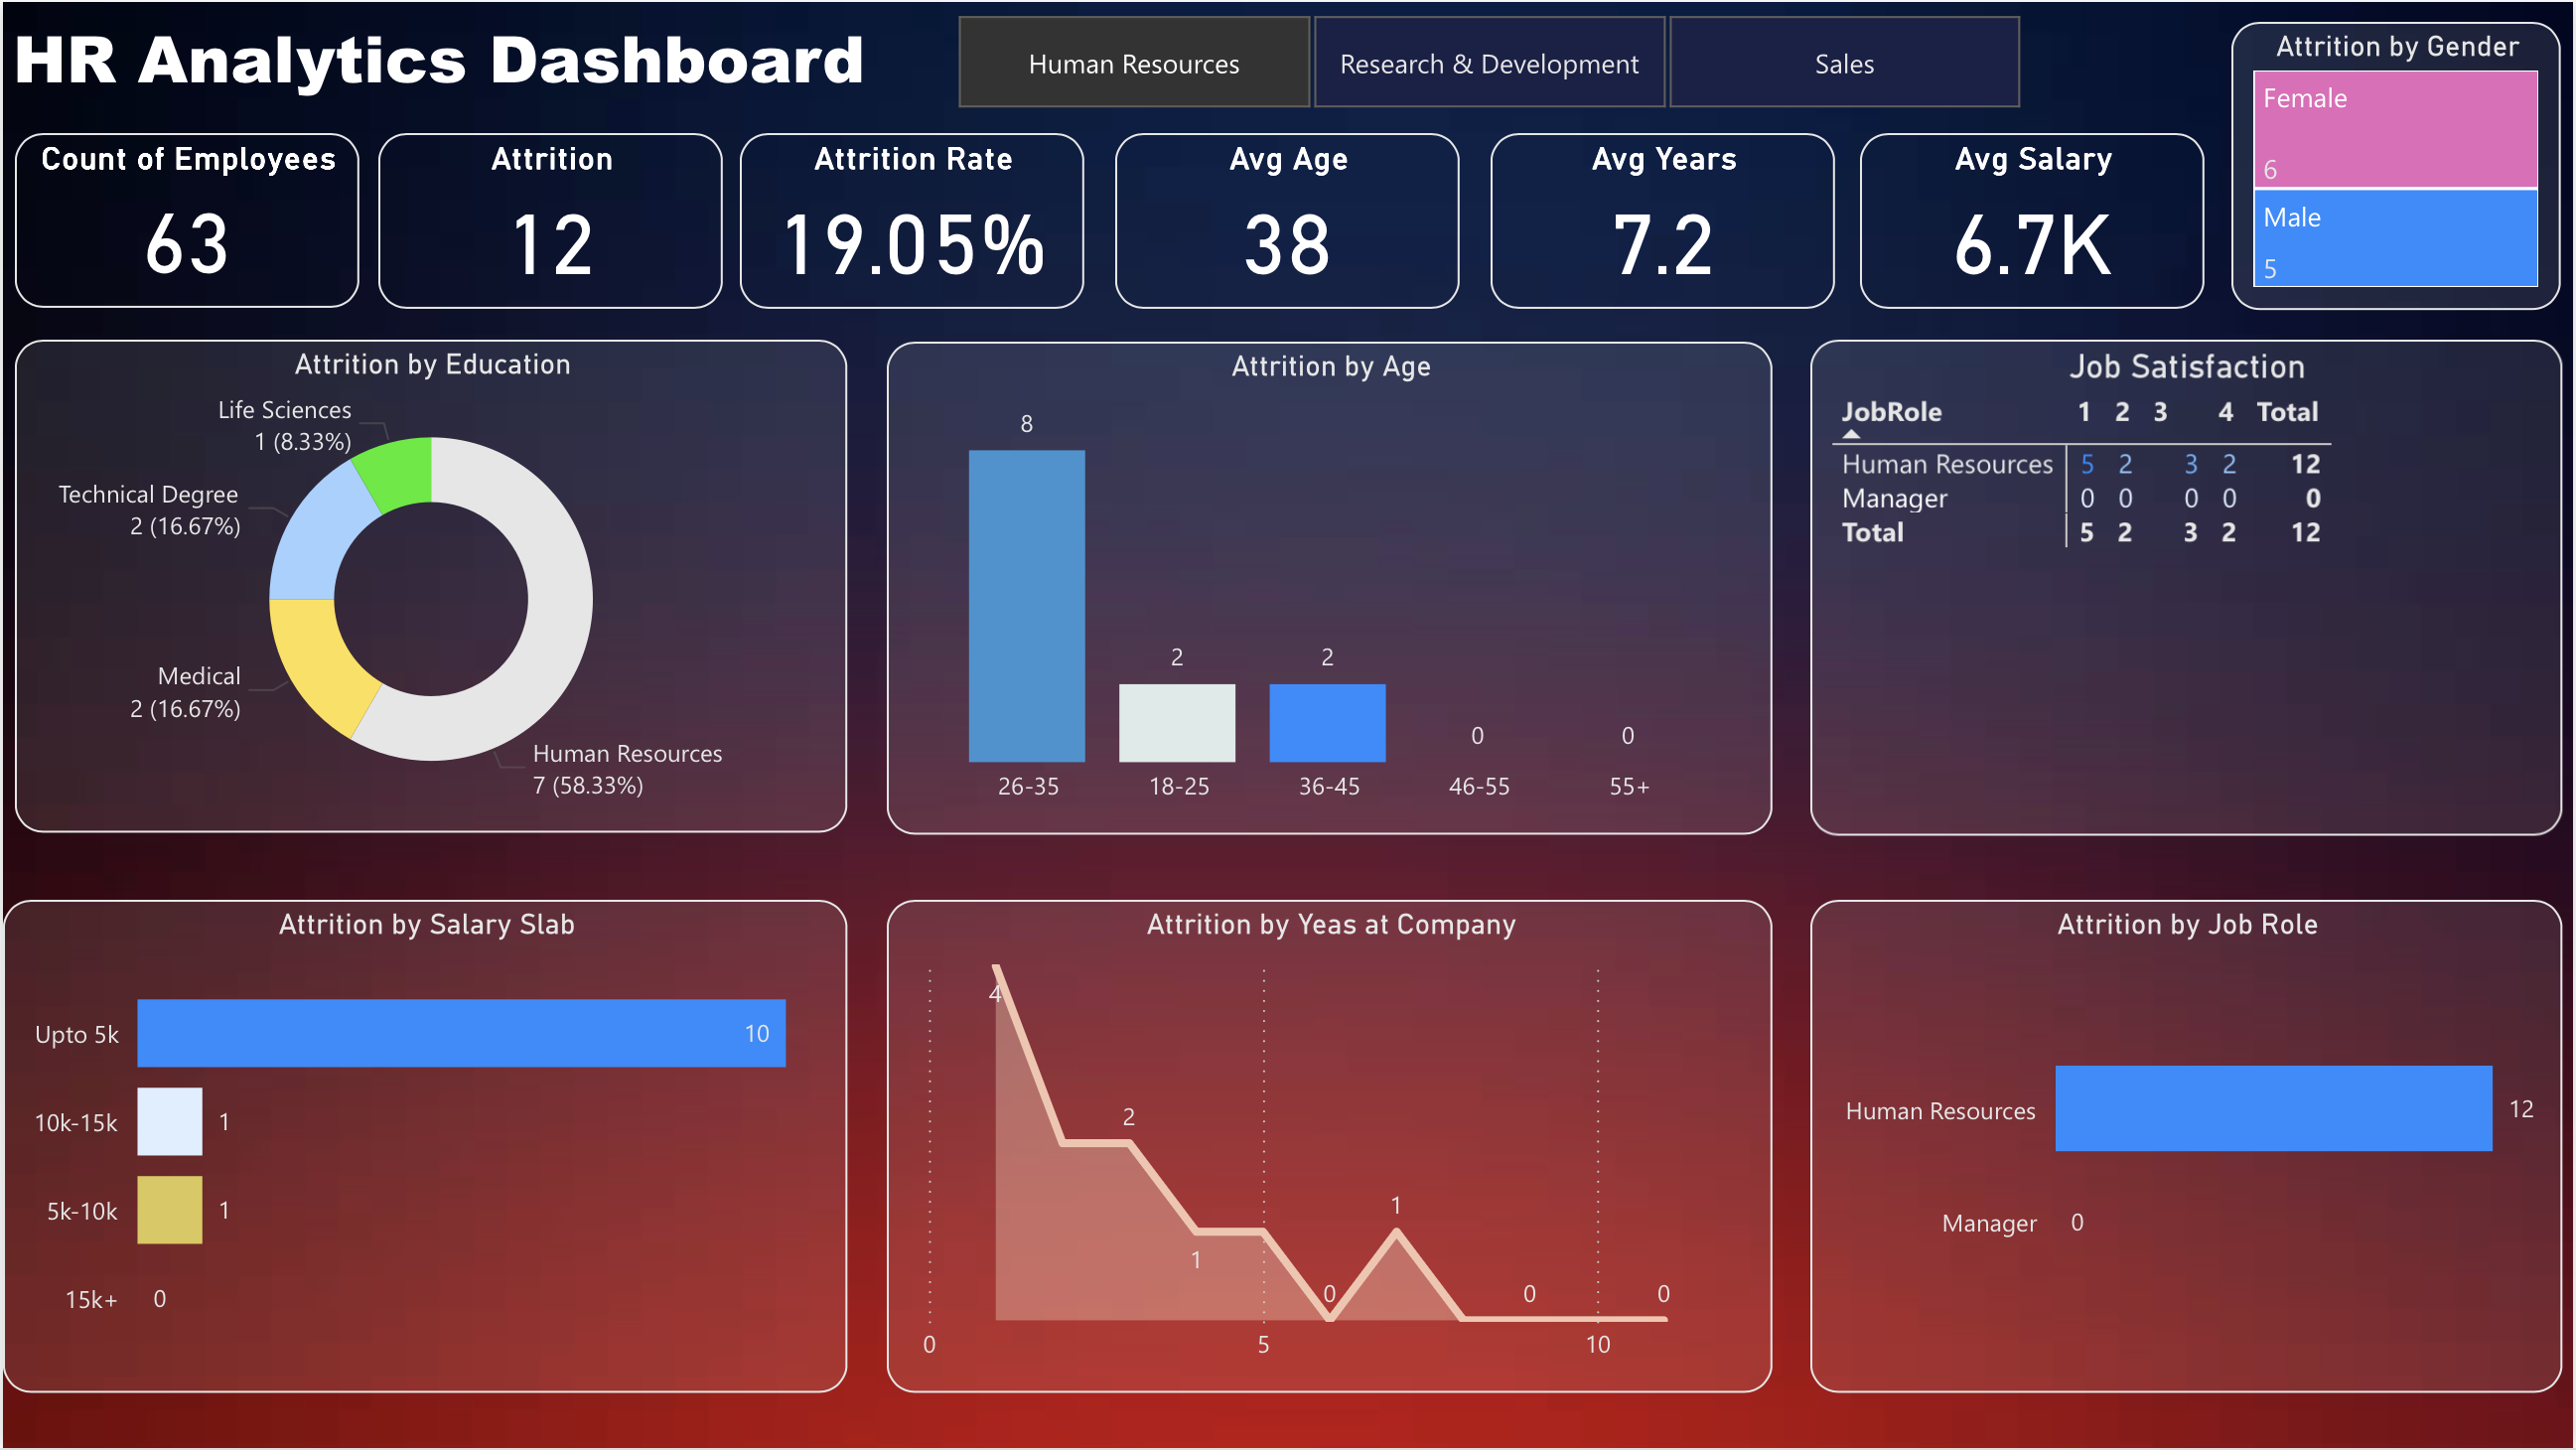

The dashboard page shown, as its layout file describes it:
{"tool":"powerbi","page":{"name":"Page 1","canvas":[1280,720],"ordinal":0},"visuals":[{"type":"card","title":"Count of Employees","fields":{"Values":["CountNonNull(HR_Analytics.EmpID)"]},"box":[6.1,65.6,171.4,87],"z":0},{"type":"card","title":"Attrition","fields":{"Values":["Sum(HR_Analytics.AttritionCount)"]},"box":[187.2,65.6,171.4,87.5],"z":1000},{"type":"card","title":"Attrition Rate","fields":{"Values":["HR_Analytics.Attrition Rate"]},"box":[367.1,65.6,171.4,87.5],"z":2000},{"type":"card","title":"Avg Age","fields":{"Values":["Avg(HR_Analytics.Age)"]},"box":[554.3,65.6,171.4,87.5],"z":3000},{"type":"card","title":"Avg Salary","fields":{"Values":["Avg(HR_Analytics.MonthlyIncome)"]},"box":[925,65.6,171.4,87.5],"z":4000},{"type":"card","title":"Avg Years","fields":{"Values":["Avg(HR_Analytics.YearsAtCompany)"]},"box":[740.3,65.6,171.4,87.5],"z":5000},{"type":"donutChart","title":"Attrition by Education","fields":{"Category":["HR_Analytics.EducationField"],"Y":["Sum(HR_Analytics.AttritionCount)"]},"box":[6.1,167.8,414.5,245.6],"z":6000},{"type":"columnChart","title":"Attrition by Age","fields":{"Category":["HR_Analytics.AgeGroup"],"Y":["Sum(HR_Analytics.AttritionCount)"]},"box":[440,169,441.2,245.6],"z":7000},{"type":"pivotTable","title":"Job Satisfaction","fields":{"Rows":["HR_Analytics.JobRole"],"Columns":["HR_Analytics.JobSatisfaction"],"Values":["Sum(HR_Analytics.AttritionCount)"]},"box":[899.5,167.8,374.4,246.8],"z":8000},{"type":"clusteredBarChart","title":"Attrition by Salary Salb","fields":{"Category":["HR_Analytics.SalarySlab"],"Y":["Sum(HR_Analytics.AttritionCount)"]},"box":[0,447.3,420.6,245.6],"z":9000},{"type":"clusteredBarChart","title":"Attrition by Job Role","fields":{"Category":["HR_Analytics.JobRole"],"Y":["Sum(HR_Analytics.AttritionCount)"]},"box":[899.5,447.3,374.4,245.6],"z":10000},{"type":"areaChart","title":"Attrition by Yeas at Company","fields":{"Category":["HR_Analytics.YearsAtCompany"],"Y":["Sum(HR_Analytics.AttritionCount)"]},"box":[440,447.3,441.2,245.6],"z":11000},{"type":"treemap","title":"Attrition by Gender","fields":{"Group":["HR_Analytics.Gender"],"Values":["Sum(HR_Analytics.AttritionCount)"]},"box":[1109.8,9.7,164.1,143.4],"z":12000},{"type":"slicer","fields":{"Values":["HR_Analytics.Department"]},"box":[449.9,0,578.9,59.5],"z":13000},{"type":"textbox","box":[0,0,463,59.4],"z":14000}]}

Visuals, with their boxes in screenshot pixels (x1, y1, x2, y2), scaled from the page's 1280x720 canvas onto the 2576x1450 screenshot:
"Count of Employees" card: pyautogui.locateOnScreen(12, 132, 358, 307)
"Attrition" card: pyautogui.locateOnScreen(376, 132, 722, 308)
"Attrition Rate" card: pyautogui.locateOnScreen(739, 132, 1083, 308)
"Avg Age" card: pyautogui.locateOnScreen(1115, 132, 1461, 308)
"Avg Salary" card: pyautogui.locateOnScreen(1862, 132, 2207, 308)
"Avg Years" card: pyautogui.locateOnScreen(1490, 132, 1835, 308)
"Attrition by Education" donutChart: pyautogui.locateOnScreen(12, 338, 846, 832)
"Attrition by Age" columnChart: pyautogui.locateOnScreen(886, 341, 1774, 835)
"Job Satisfaction" pivotTable: pyautogui.locateOnScreen(1810, 338, 2564, 835)
"Attrition by Salary Salb" clusteredBarChart: pyautogui.locateOnScreen(0, 901, 846, 1395)
"Attrition by Job Role" clusteredBarChart: pyautogui.locateOnScreen(1810, 901, 2564, 1395)
"Attrition by Yeas at Company" areaChart: pyautogui.locateOnScreen(886, 901, 1774, 1395)
"Attrition by Gender" treemap: pyautogui.locateOnScreen(2233, 20, 2564, 308)
slicer - HR_Analytics.Department: pyautogui.locateOnScreen(906, 0, 2071, 120)
textbox: pyautogui.locateOnScreen(0, 0, 931, 119)
